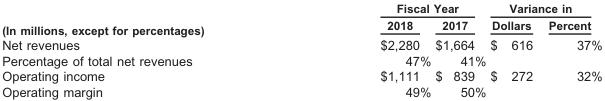table: (1, 0, 601, 98)
table column: (1, 0, 291, 98), (291, 0, 432, 98), (539, 0, 601, 98), (432, 0, 487, 98), (487, 0, 539, 98)
table column header: (1, 0, 601, 36)
table row: (1, 15, 601, 36), (1, 36, 601, 52), (1, 67, 601, 83), (1, 0, 601, 15), (1, 52, 601, 67), (1, 83, 601, 98)
table spanning cell: (1, 0, 291, 36), (291, 0, 487, 15), (487, 0, 601, 15)
